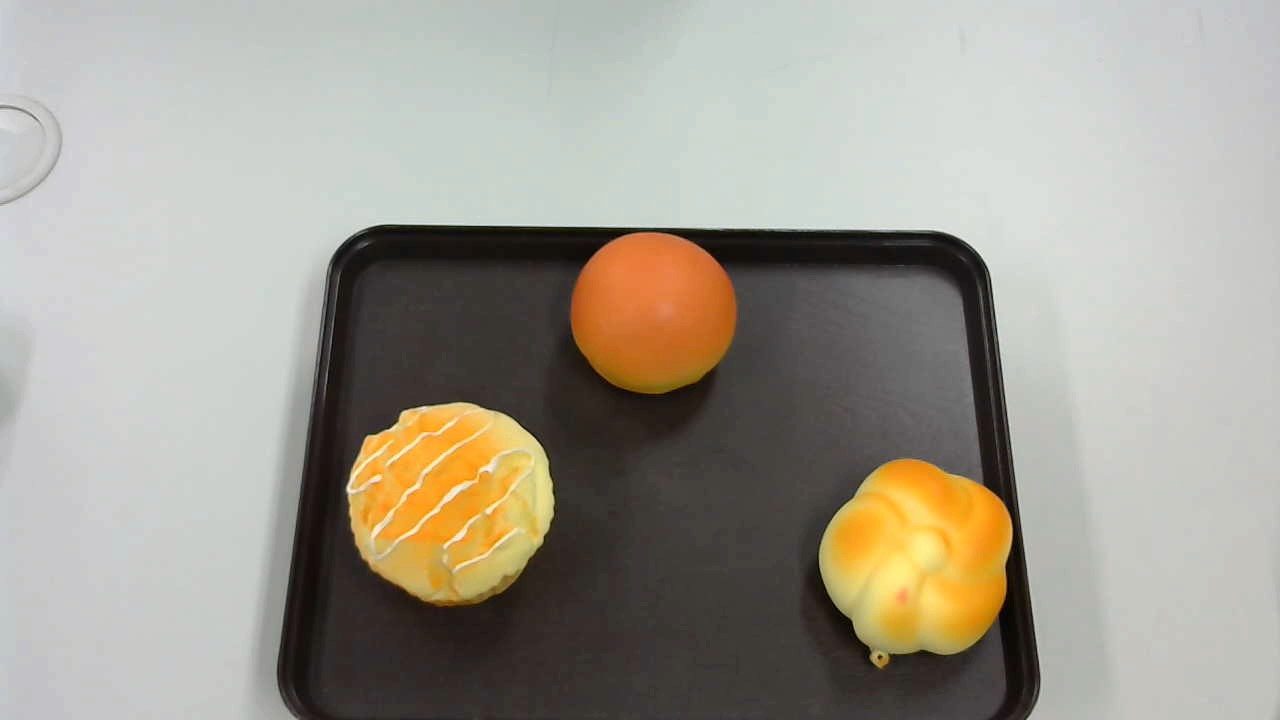bun: (568, 230, 735, 391)
cupcake: (347, 402, 557, 605)
twist bread: (818, 458, 1012, 668)
